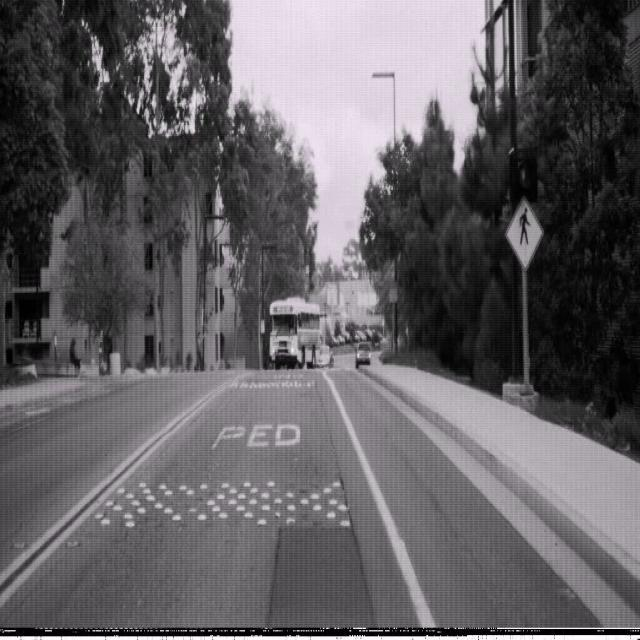pedestrianCrossing: (505, 194, 544, 272)
